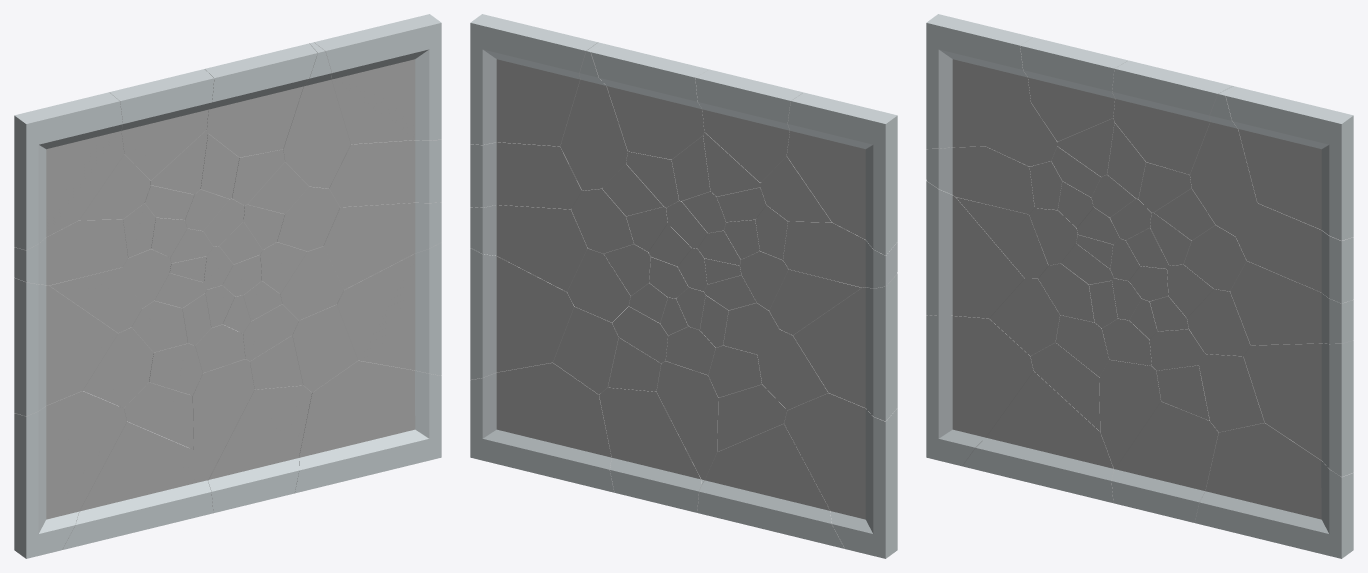
The model's file is Wall03_frac.fbx.
3 renders of one model, left to right at view 1: azimuth 30°, elevation 25°; view 2: azimuth 150°, elevation 25°; view 3: azimuth 330°, elevation 25°, orthographic.
Parts seen in each view (by area): view 1: Wall03_cell.048, Wall03_cell.021, Wall03_cell.040, Wall03_cell.030, Wall03_cell.022, Wall03_cell.044, Wall03_cell.027, Wall03_cell.047, Wall03_cell.037, Wall03_cell.033, Wall03_cell.041, Wall03_cell.039 (+37 smaller); view 2: Wall03_cell.048, Wall03_cell.030, Wall03_cell.040, Wall03_cell.021, Wall03_cell.022, Wall03_cell.044, Wall03_cell.027, Wall03_cell.037, Wall03_cell.047, Wall03_cell.033, Wall03_cell.041, Wall03_cell.039 (+37 smaller); view 3: Wall03_cell.048, Wall03_cell.040, Wall03_cell.021, Wall03_cell.030, Wall03_cell.022, Wall03_cell.044, Wall03_cell.047, Wall03_cell.027, Wall03_cell.037, Wall03_cell.033, Wall03_cell.041, Wall03_cell.039 (+37 smaller).
Part boxes in pixels (x1,y1,x2,y2): Wall03_cell.048: (295,360,441,493); Wall03_cell.021: (14,391,126,558); Wall03_cell.040: (314,14,441,144); Wall03_cell.030: (14,92,124,250); Wall03_cell.022: (62,422,213,549); Wall03_cell.044: (336,242,441,375); Wall03_cell.027: (14,278,117,416); Wall03_cell.047: (208,385,311,513); Wall03_cell.037: (205,43,317,157); Wall03_cell.033: (109,69,214,180); Wall03_cell.041: (323,202,441,289); Wall03_cell.039: (329,139,441,207); Wall03_cell.048: (470,362,614,492); Wall03_cell.030: (787,92,897,255); Wall03_cell.040: (470,14,597,146); Wall03_cell.021: (784,393,897,558); Wall03_cell.022: (697,423,844,548); Wall03_cell.044: (470,248,574,379); Wall03_cell.027: (793,274,897,421); Wall03_cell.037: (591,44,709,159); Wall03_cell.047: (599,387,701,512); Wall03_cell.033: (695,69,803,182); Wall03_cell.041: (470,205,587,291); Wall03_cell.039: (470,142,581,209); Wall03_cell.048: (1195,423,1353,558); Wall03_cell.040: (1226,87,1353,240); Wall03_cell.021: (926,315,1033,466); Wall03_cell.030: (926,14,1032,148); Wall03_cell.022: (962,371,1113,503); Wall03_cell.044: (1243,340,1353,476); Wall03_cell.047: (1111,401,1218,522); Wall03_cell.027: (926,181,1024,318); Wall03_cell.037: (1112,60,1232,174); Wall03_cell.033: (1020,37,1127,141); Wall03_cell.041: (1230,261,1353,345); Wall03_cell.039: (1236,203,1353,303).
Bounding box in the file's own units: 400 × 400 × 20.
